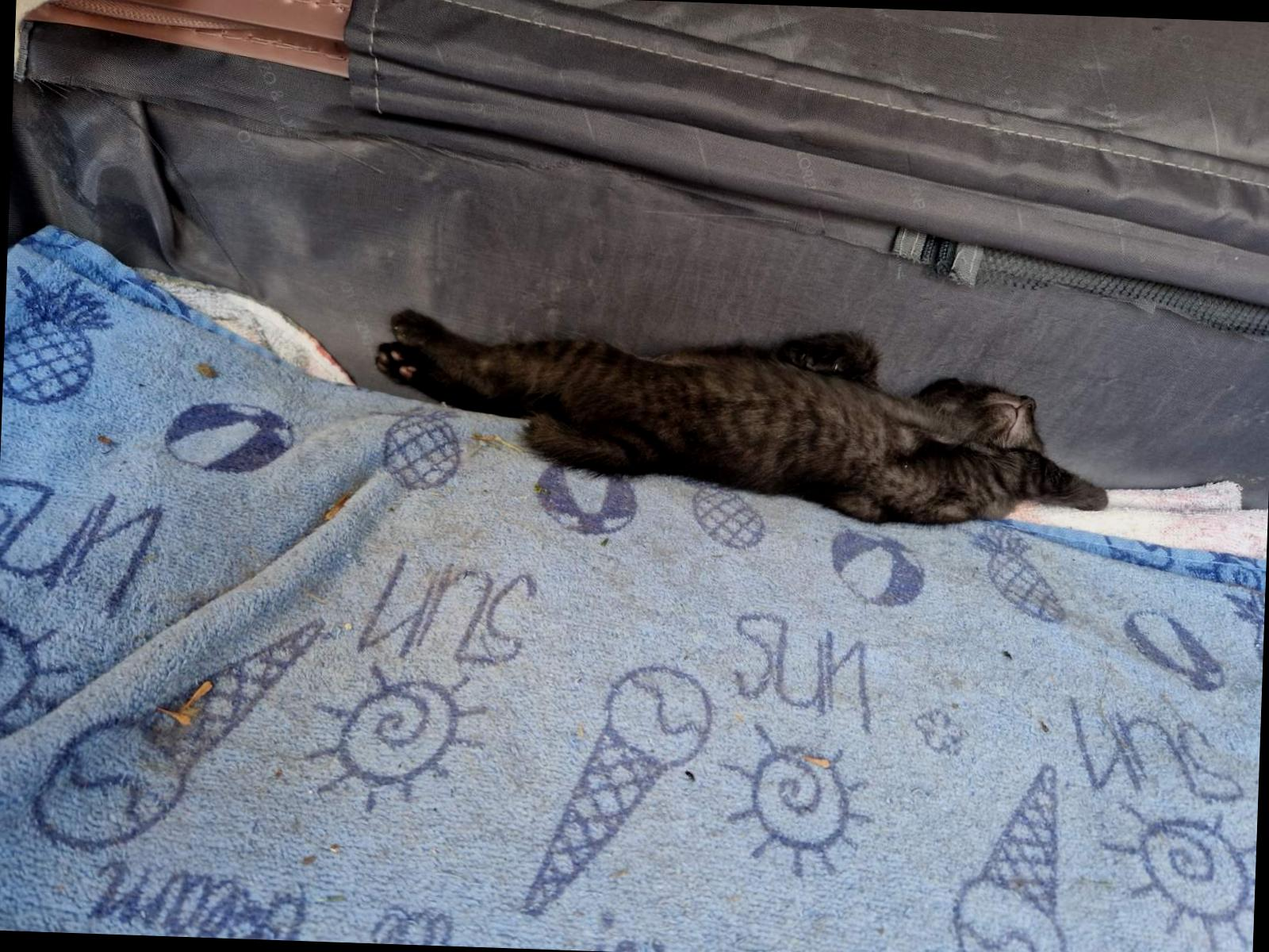macka: (375, 305, 1118, 534)
